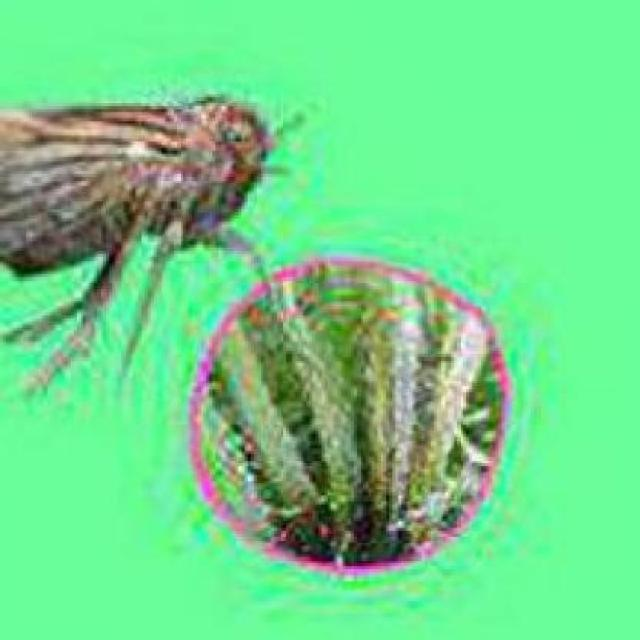brown-planthopper: (1, 78, 296, 309)
